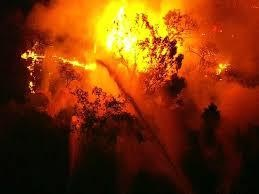fire: (211, 58, 230, 79)
